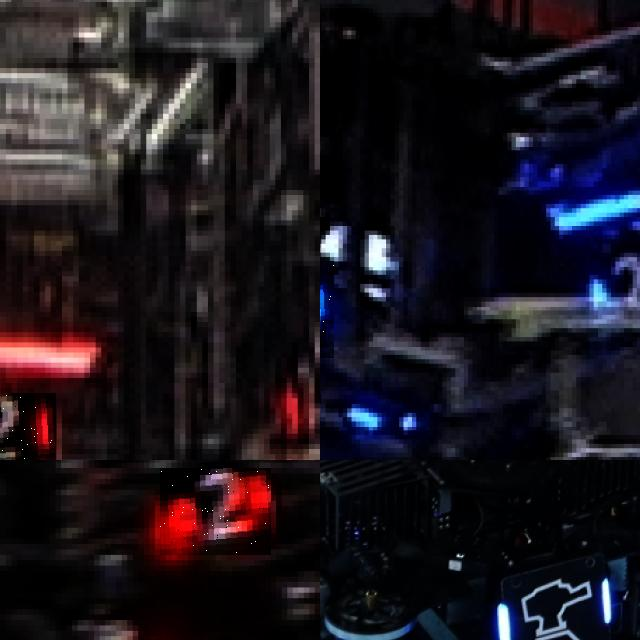Bs: (497, 571, 613, 640)
R2: (160, 468, 271, 555), (0, 393, 56, 460)
